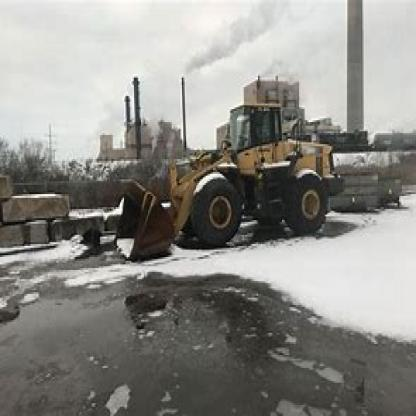bull_dozer/loader/grader: (100, 85, 341, 270)
